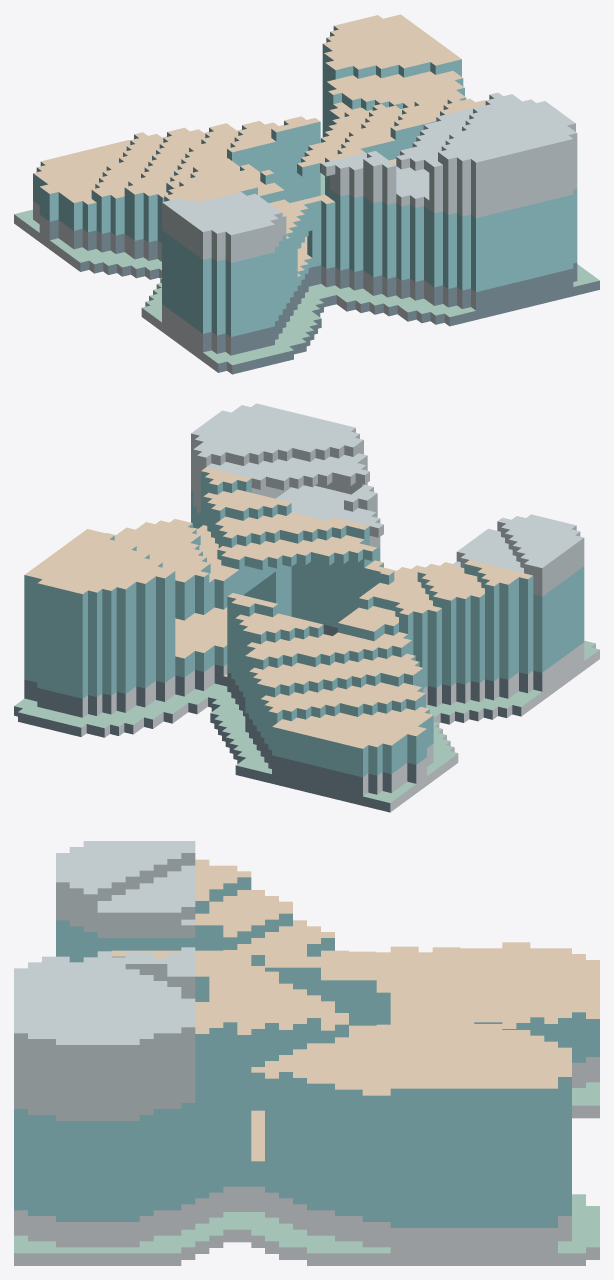
Rendered from a36_delta.glb.
3 views of the same model, one above another, from view 1: azimuth 30°, elevation 25°; view 2: azimuth 150°, elevation 25°; view 3: azimuth 270°, elevation 25° (orthographic). The views are drawn at different scales.
Bounding box in the file's own units: 420 × 170 × 420.
